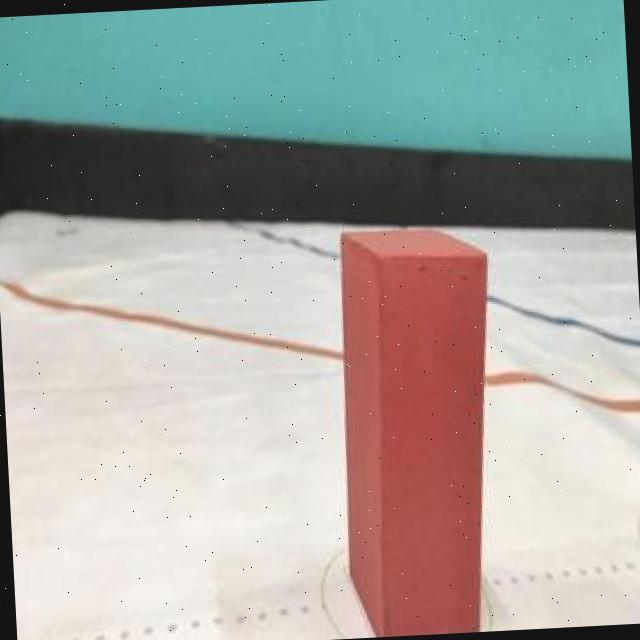redbox: (332, 217, 506, 638)
